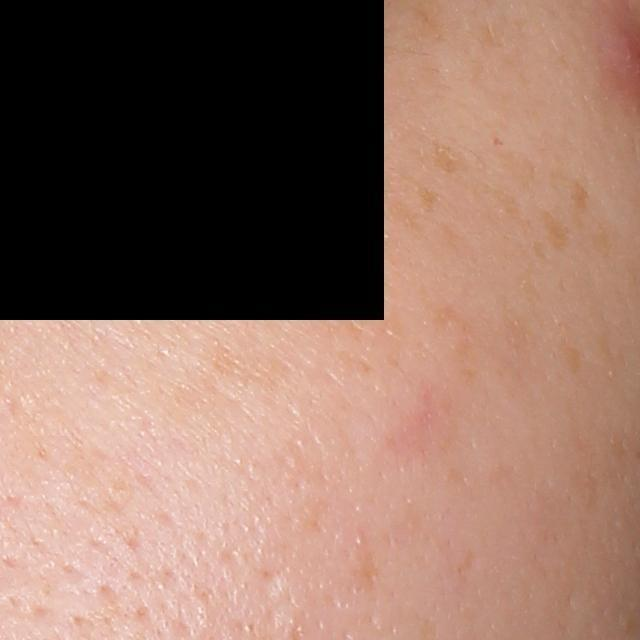melasma: (427, 300, 484, 381), (470, 180, 536, 240), (495, 148, 545, 204), (401, 168, 445, 216), (426, 137, 470, 179), (536, 203, 571, 254), (558, 328, 585, 377), (570, 176, 590, 228)
